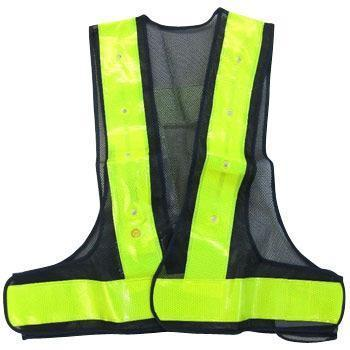vest: (4, 14, 345, 343)
